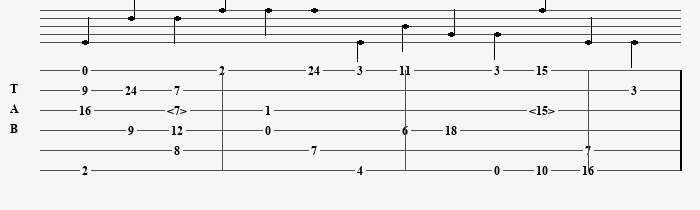0: (82, 64, 92, 77), (265, 124, 275, 137), (494, 164, 504, 177)
1: (265, 104, 275, 117)
10: (536, 164, 552, 177)
11: (399, 64, 415, 77)
12: (171, 124, 187, 137)
15: (536, 64, 552, 77)
16: (79, 104, 95, 117), (582, 164, 598, 177)
18: (445, 124, 461, 137)
2: (82, 164, 92, 177), (219, 64, 229, 77)
24: (125, 84, 141, 97), (308, 64, 324, 77)
3: (357, 64, 367, 77), (494, 64, 504, 77), (631, 84, 641, 97)
4: (357, 164, 367, 177)
6: (402, 124, 412, 137)
7: (174, 84, 184, 97), (311, 144, 321, 157), (585, 144, 595, 157)
8: (174, 144, 184, 157)
9: (82, 84, 92, 97), (128, 124, 138, 137)
harmonic: (529, 104, 559, 117), (167, 104, 191, 117)
